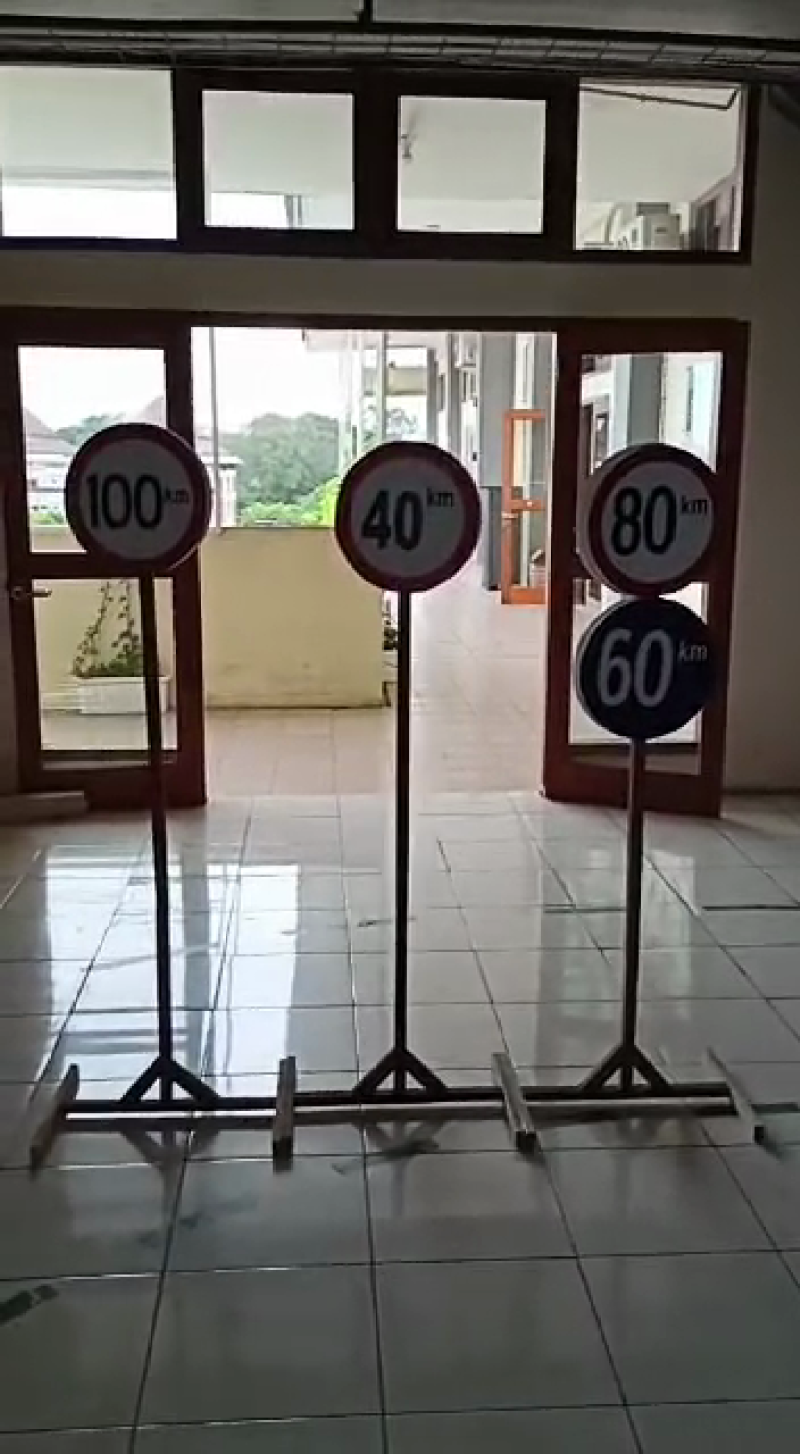batas maksimal 100kmperjam: (53, 418, 213, 570)
batas maksimal 40kmperjam: (322, 444, 487, 592)
batas maksimal 80kmperjam minimal 60kmperjam: (574, 435, 735, 742)
